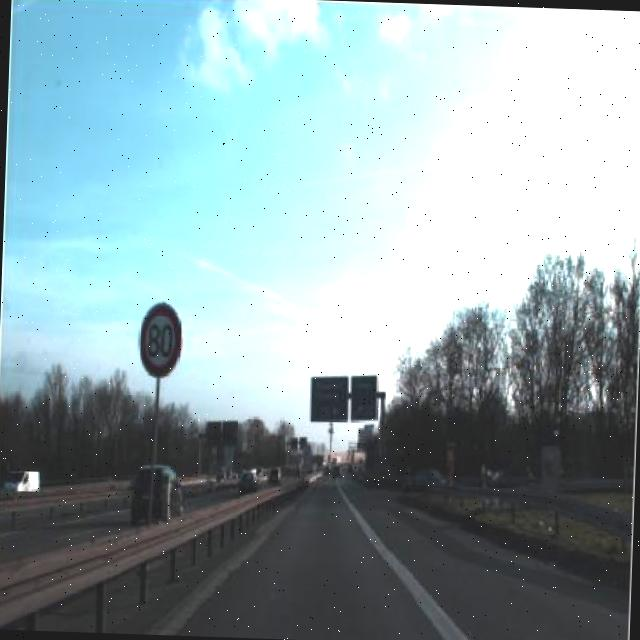Ograniczenie predkosci do 80: (134, 296, 188, 384)
